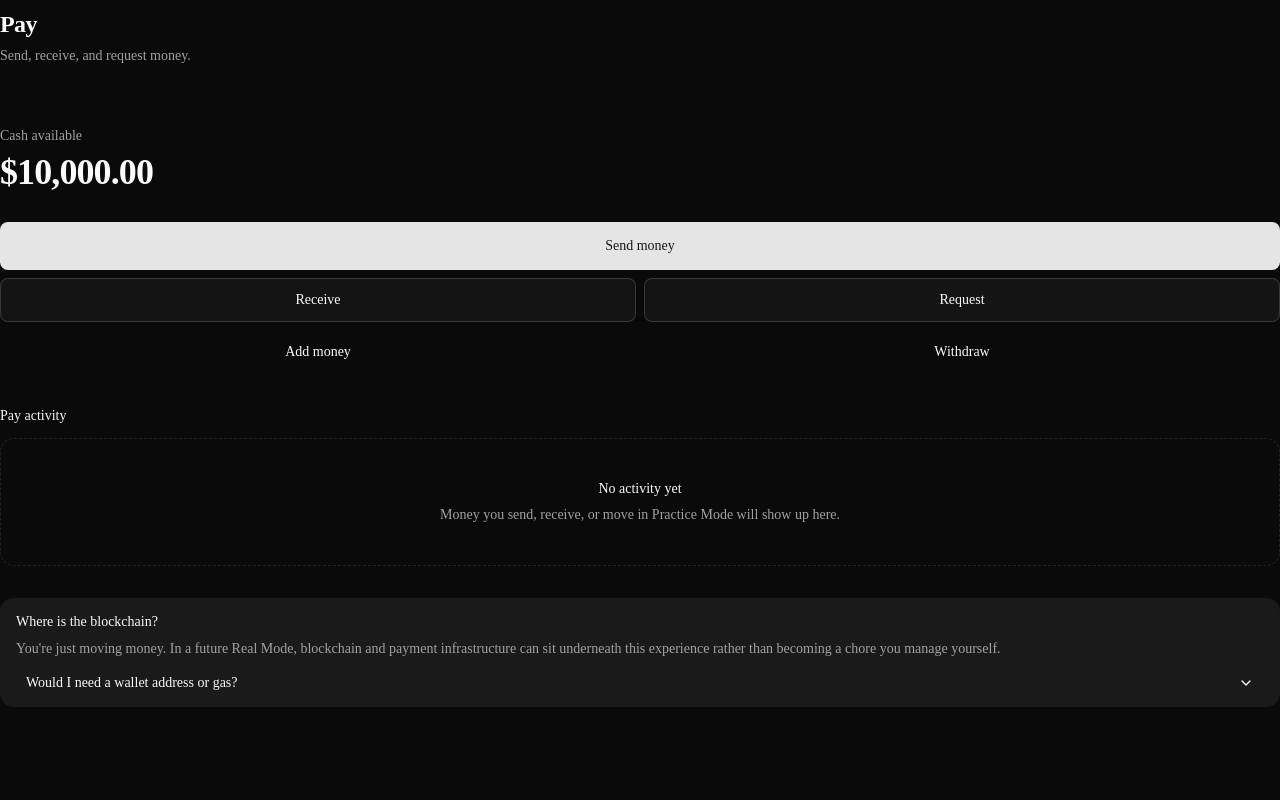
Test case: PayView › refuses to send more Cash than is available
Step 1. Click the button "Send money" → point(640, 246), box [0,222,1279,270]
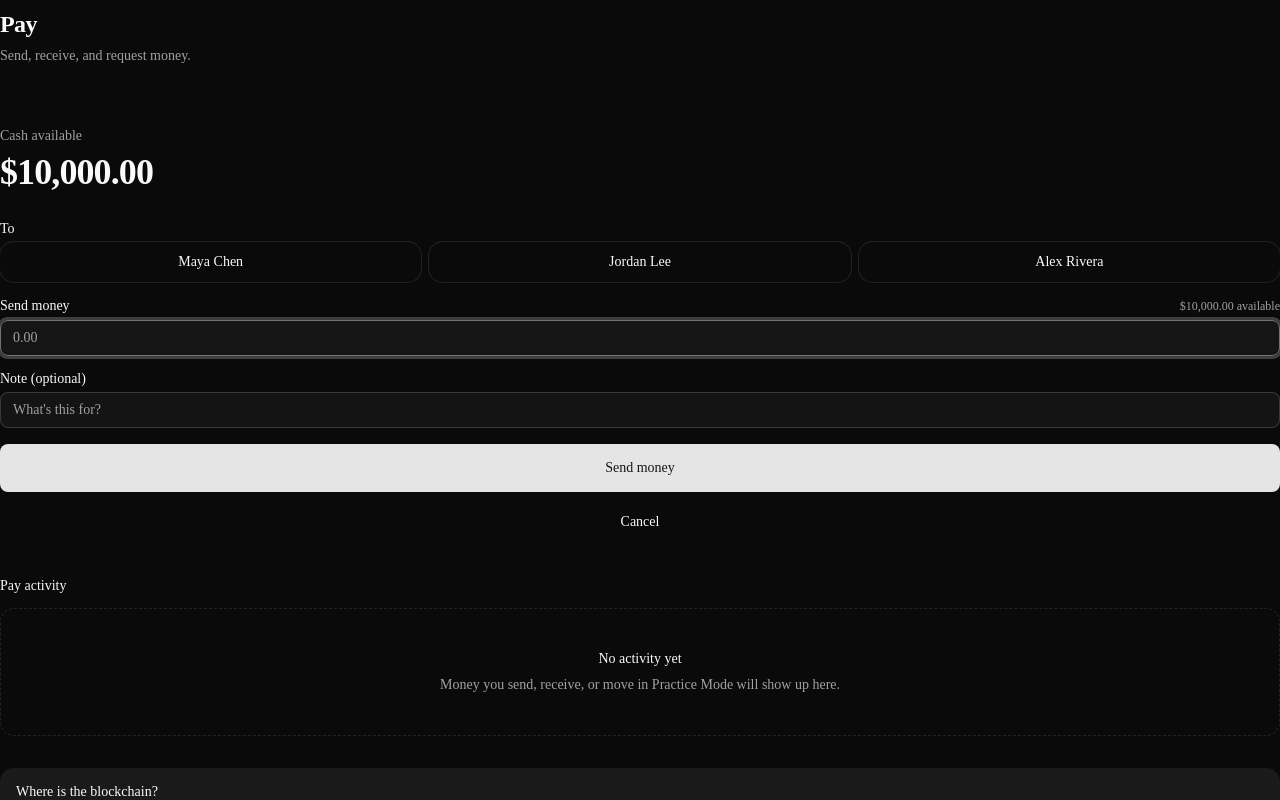
Step 2. Click the button "Maya Chen" → point(211, 262), box [0,242,421,282]
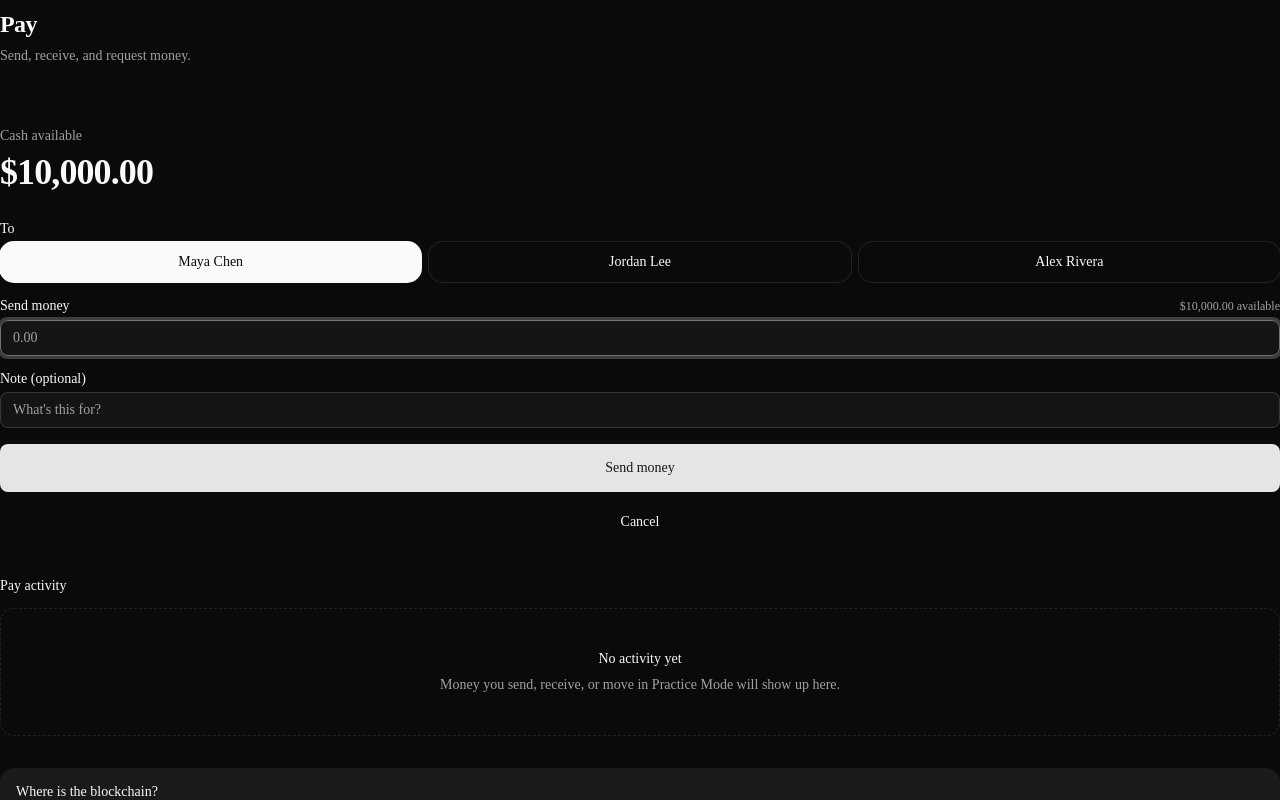
Step 3. Type "50000" into the field labelled "Send money" → point(640, 338), box [0,320,1279,356]
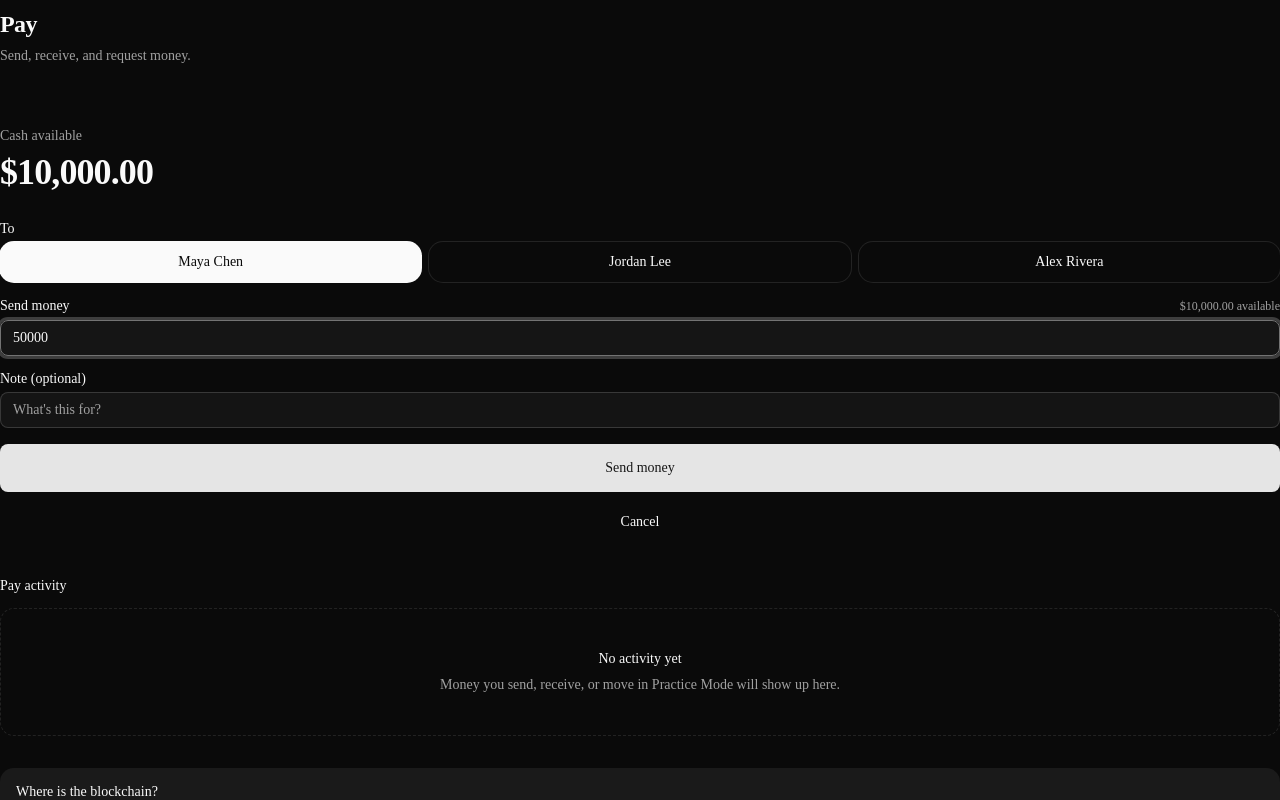
Step 4. Click the button "Send money" → point(640, 468), box [0,444,1279,492]
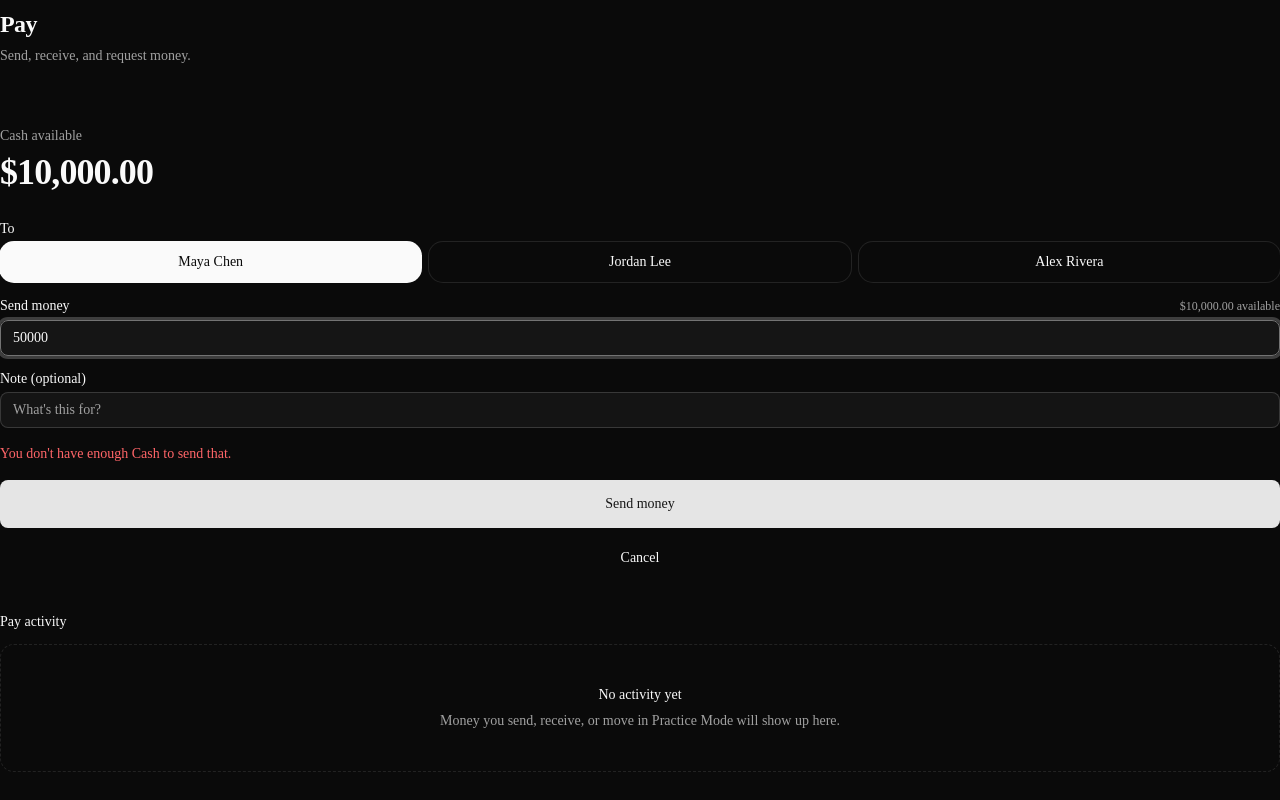
Expected: the text with test id "pay-cash-headline" reads "$10,000.00", [0,152,153,192]
Expected: the text "You don't have enough Cash to send that." is shown, [0,446,231,461]
